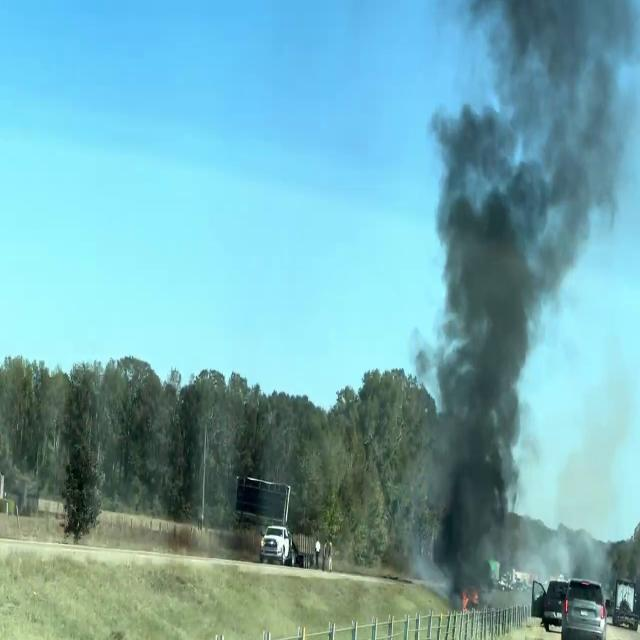Smoke: (412, 1, 638, 592)
